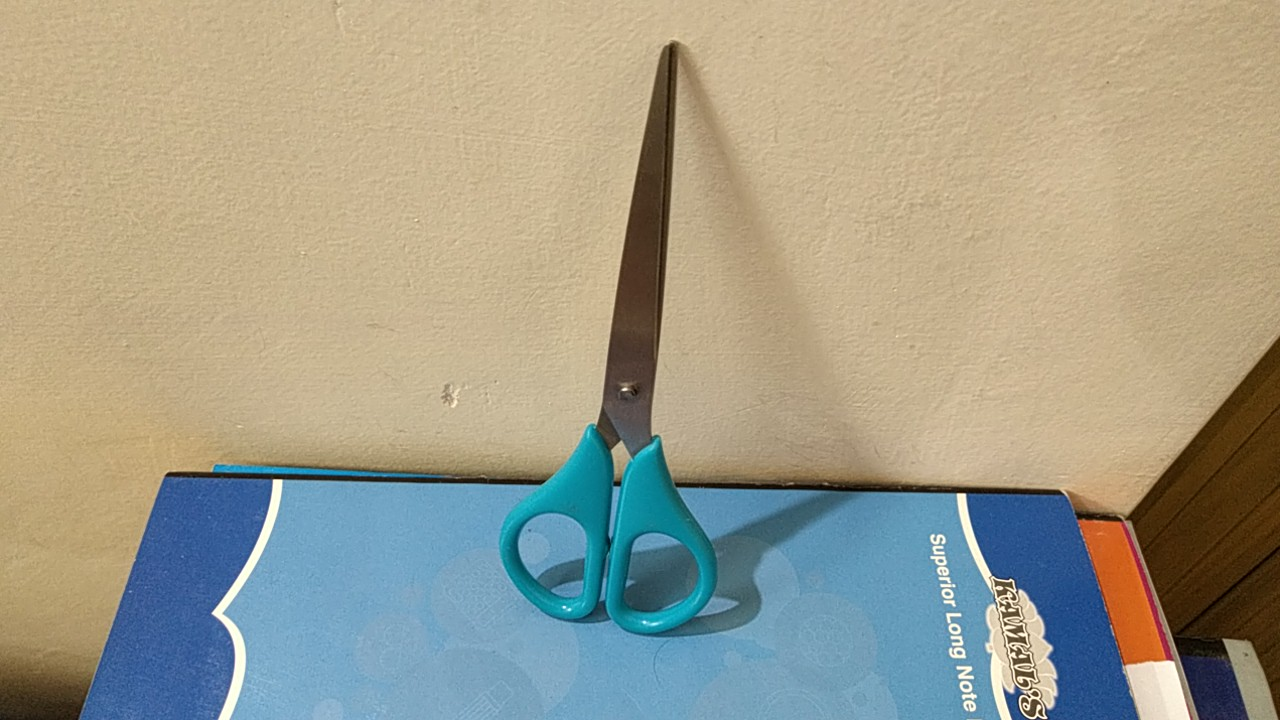scissor: (492, 32, 738, 649)
